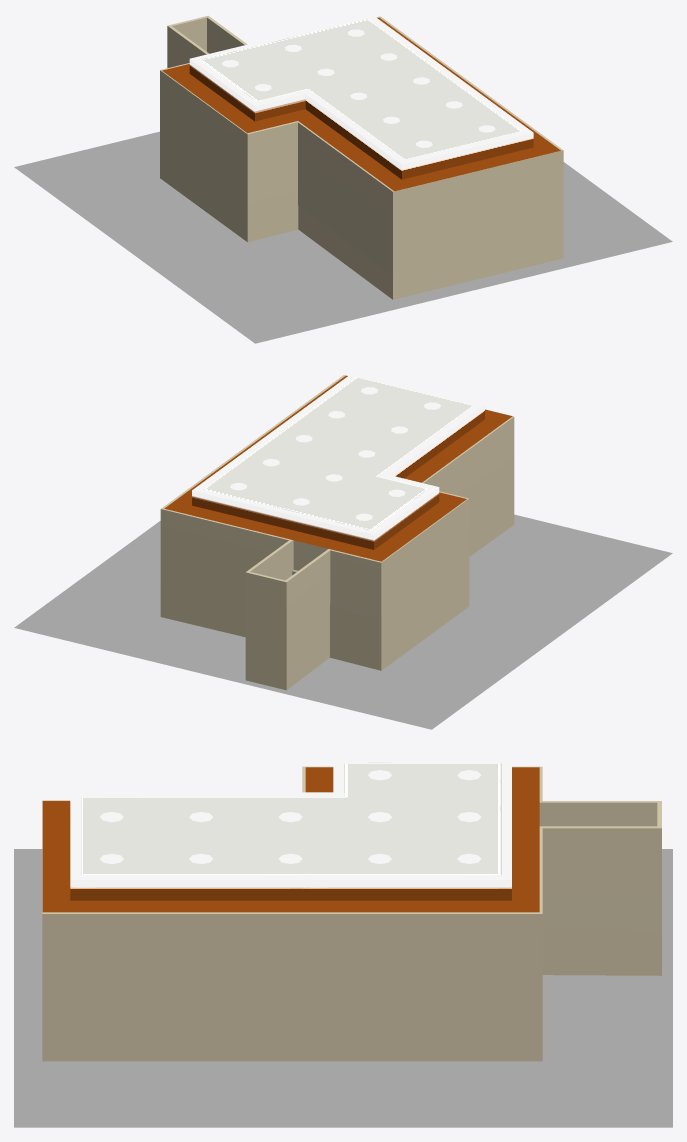
Rendered from Gudang Eksport Map.fbx.
3 views of the same model, one above another, from view 1: azimuth 30°, elevation 25°; view 2: azimuth 150°, elevation 25°; view 3: azimuth 270°, elevation 25° (orthographic). The views are drawn at different scales.
Visible parts, largest first — view 1: Tembok.001, Lantai, Atap; view 2: Lantai, Tembok.001, Atap; view 3: Tembok.001, Atap, Lantai.
Part boxes in pixels (bbox=[...]): Tembok.001: bbox=[160, 15, 563, 299]; Lantai: bbox=[14, 131, 672, 343]; Atap: bbox=[162, 14, 560, 191]; Lantai: bbox=[14, 514, 672, 729]; Tembok.001: bbox=[160, 375, 514, 690]; Atap: bbox=[164, 372, 512, 561]; Tembok.001: bbox=[42, 766, 661, 1061]; Atap: bbox=[42, 758, 539, 912]; Lantai: bbox=[14, 849, 672, 1127].
Bounding box in the file's own units: 2759 × 780 × 2759.
